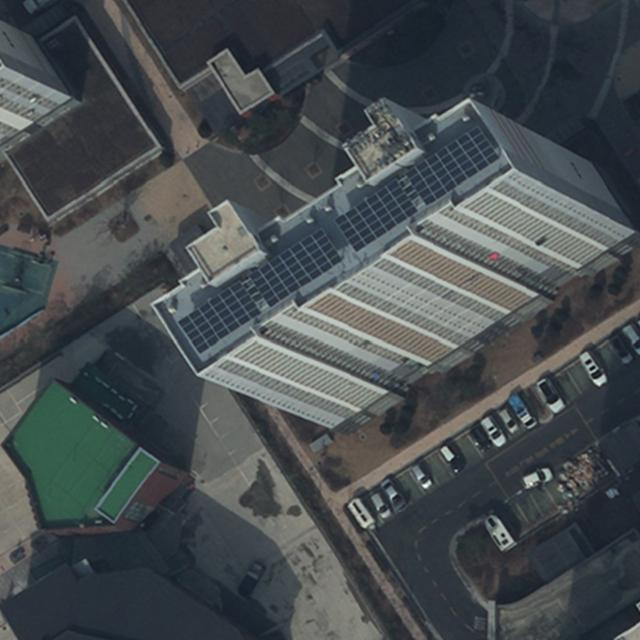panel: (247, 226, 343, 308), (404, 124, 499, 206), (331, 178, 418, 253), (176, 280, 261, 354)
